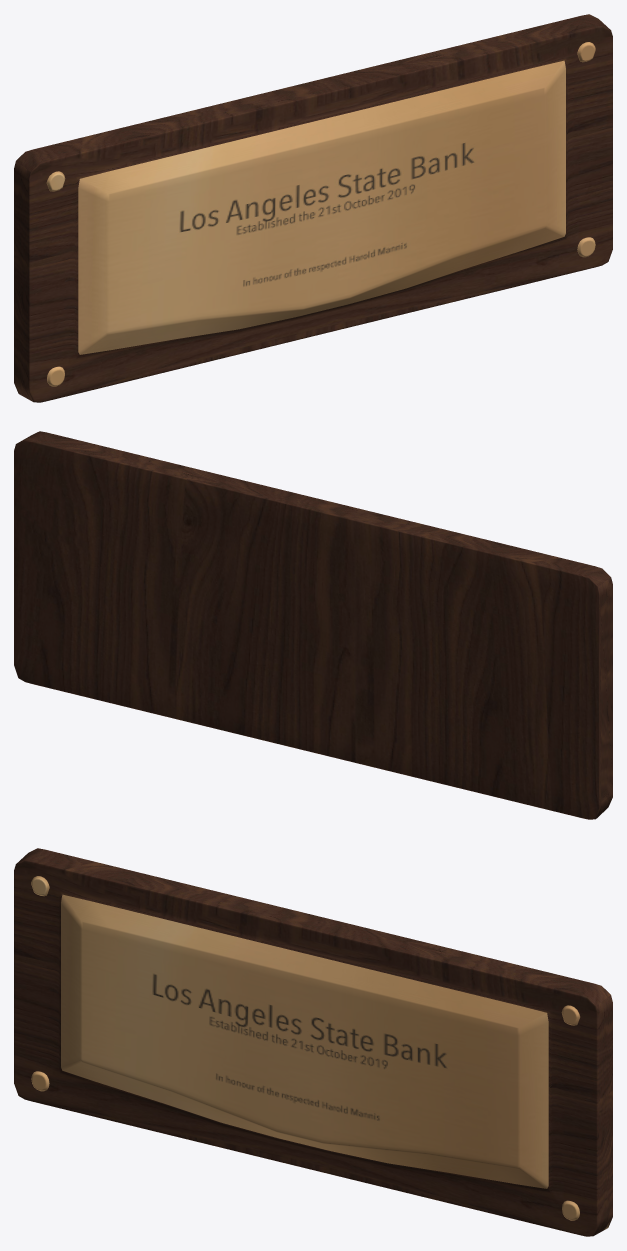
The model's file is Robbers_T3ANI210_Plaque_Abdilla.fbx.
The picture shows the model from 3 angles, top to bottom: view 1: azimuth 30°, elevation 25°; view 2: azimuth 150°, elevation 25°; view 3: azimuth 330°, elevation 25°; orthographic projection.
Parts seen in each view (by area): view 1: Plaque_HighRes; view 2: Plaque_HighRes; view 3: Plaque_HighRes.
Boxes of the visible parts, x1,y1,x2,y2 form: Plaque_HighRes: (14, 14, 612, 402); Plaque_HighRes: (14, 431, 612, 819); Plaque_HighRes: (14, 848, 612, 1236).
Size of the model in its own units: 38 by 15.06 by 2.33.
2 materials, 2 textured.
